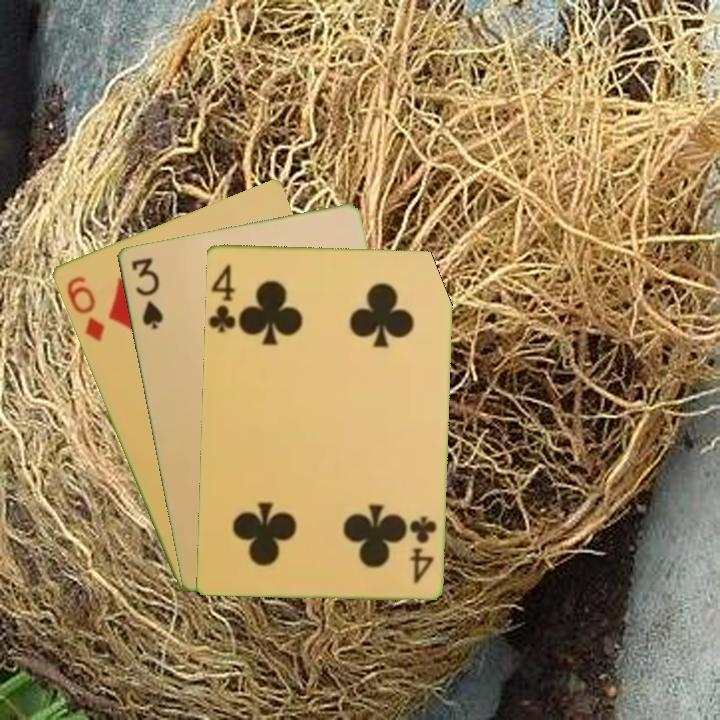3s: (127, 254, 166, 332)
4c: (405, 512, 439, 586), (207, 260, 238, 336)
6d: (62, 272, 107, 344)
